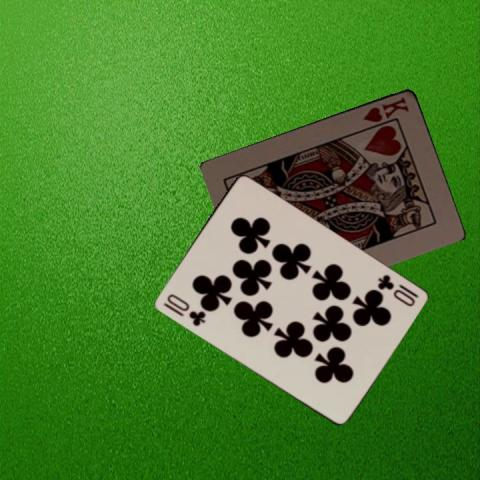10c: (160, 291, 207, 328), (374, 271, 419, 308)
Kh: (360, 93, 411, 124)
